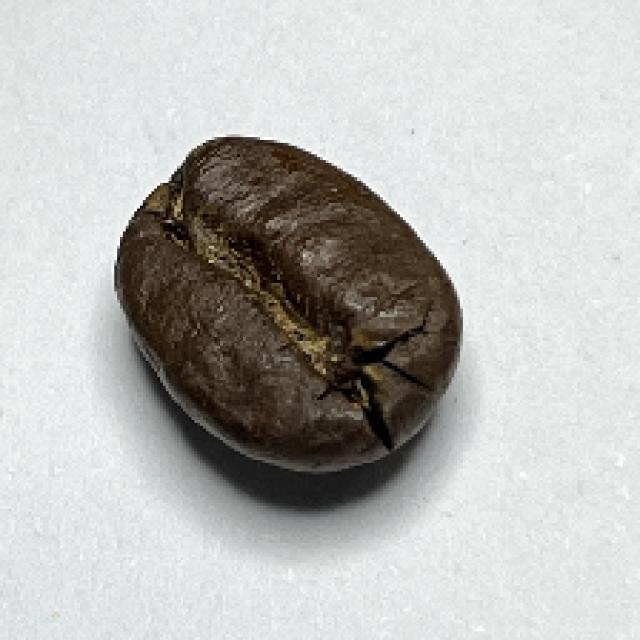bean: (110, 134, 463, 474)
